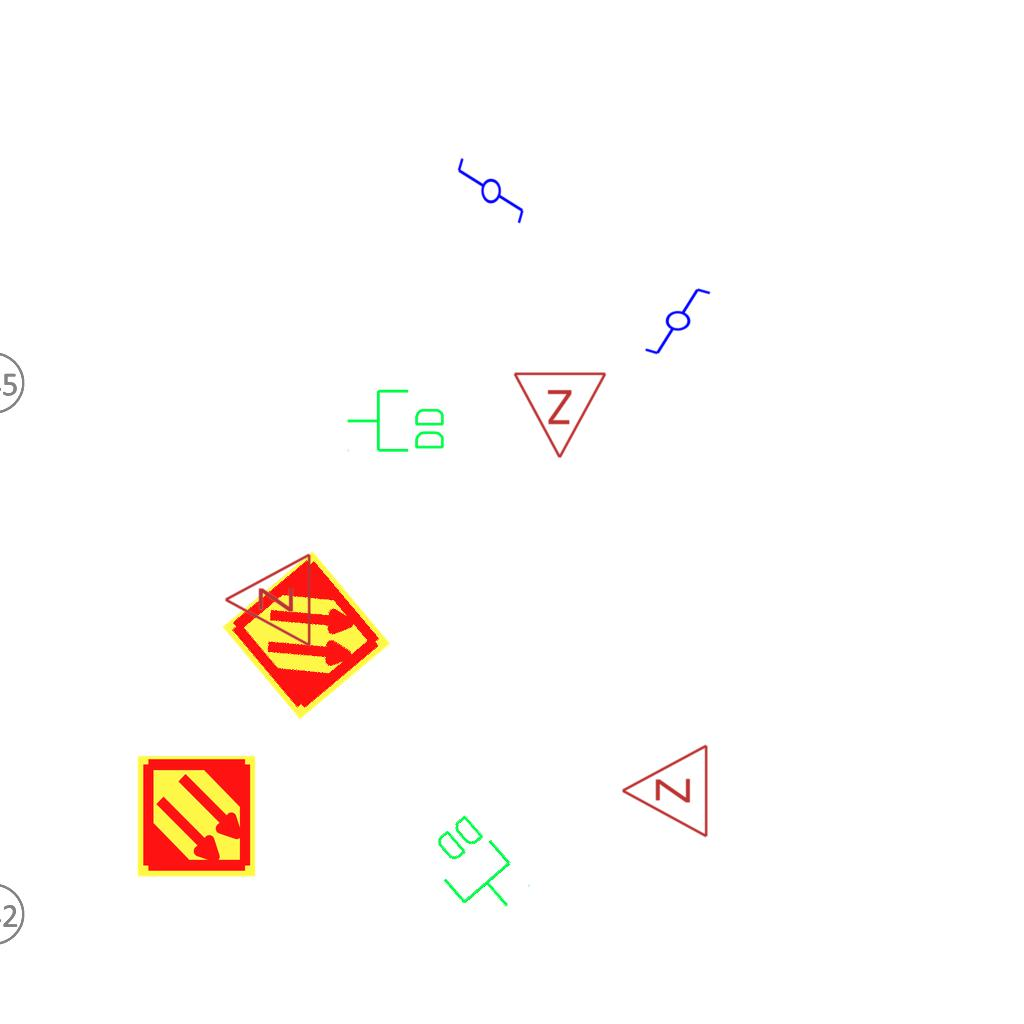ASR_Ansaugrauchmelder: (218, 547, 395, 724), (134, 754, 259, 879)
Datenanschluss_zweifach: (415, 806, 536, 931), (345, 387, 448, 456)
Wechselschalter: (454, 156, 526, 234), (643, 286, 721, 358)
Zimmersignalleuchte: (512, 365, 610, 465), (615, 743, 715, 841), (218, 552, 318, 650)
